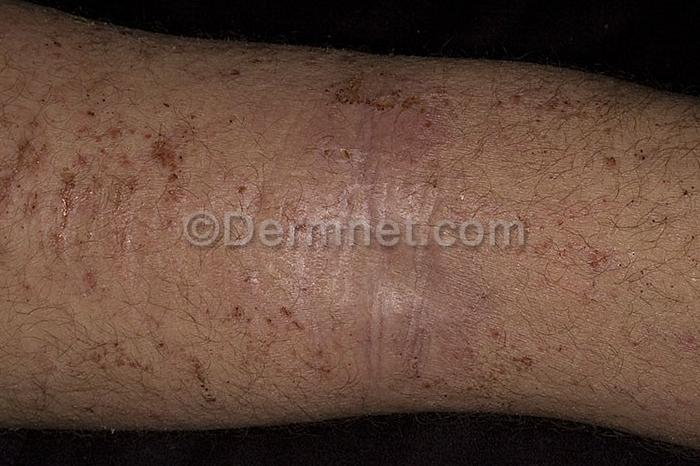Eritema 2: (274, 95, 459, 386)
exudacion 2: (0, 37, 700, 411)
